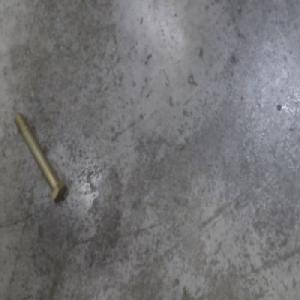Bolt: (14, 106, 67, 205)
